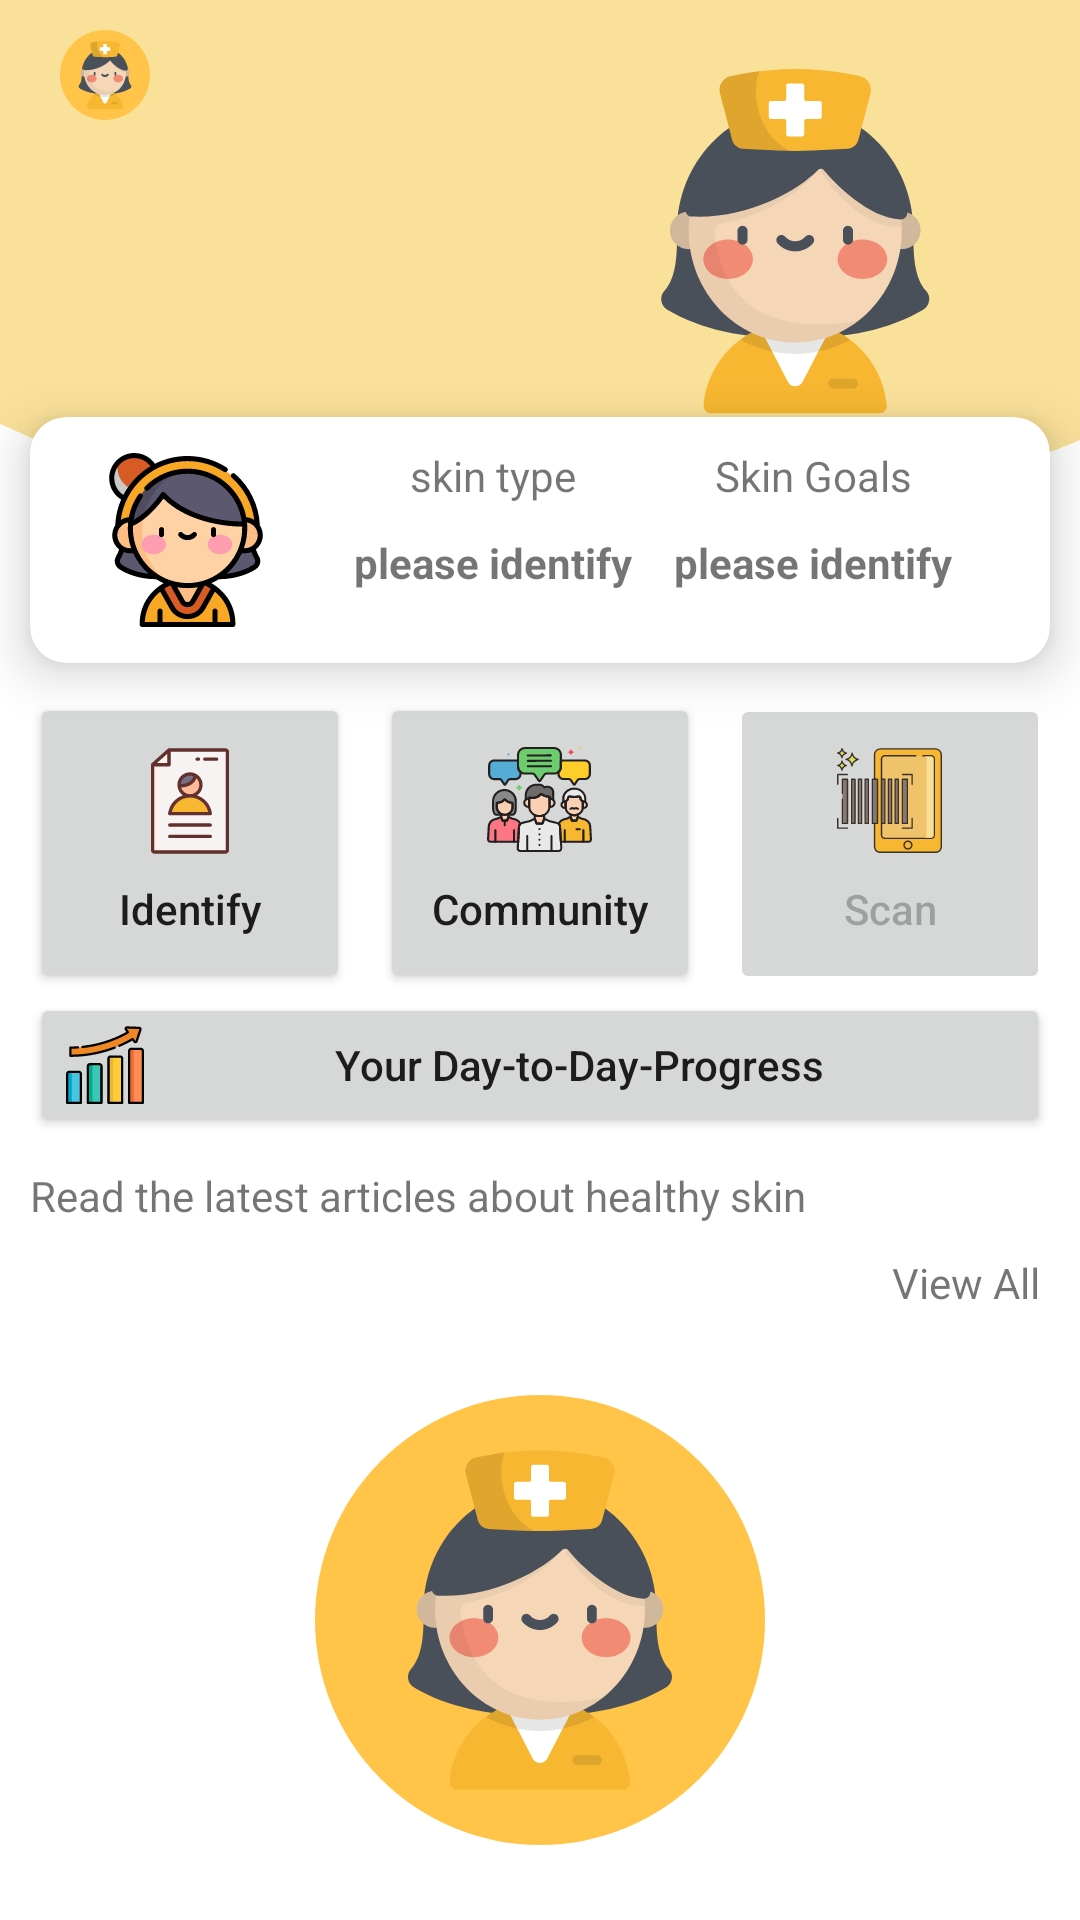

Icons on this 1080 × 1920 Android screen, each with the point to tap as (x=x, y=y):
girl user: (x=186, y=540)
